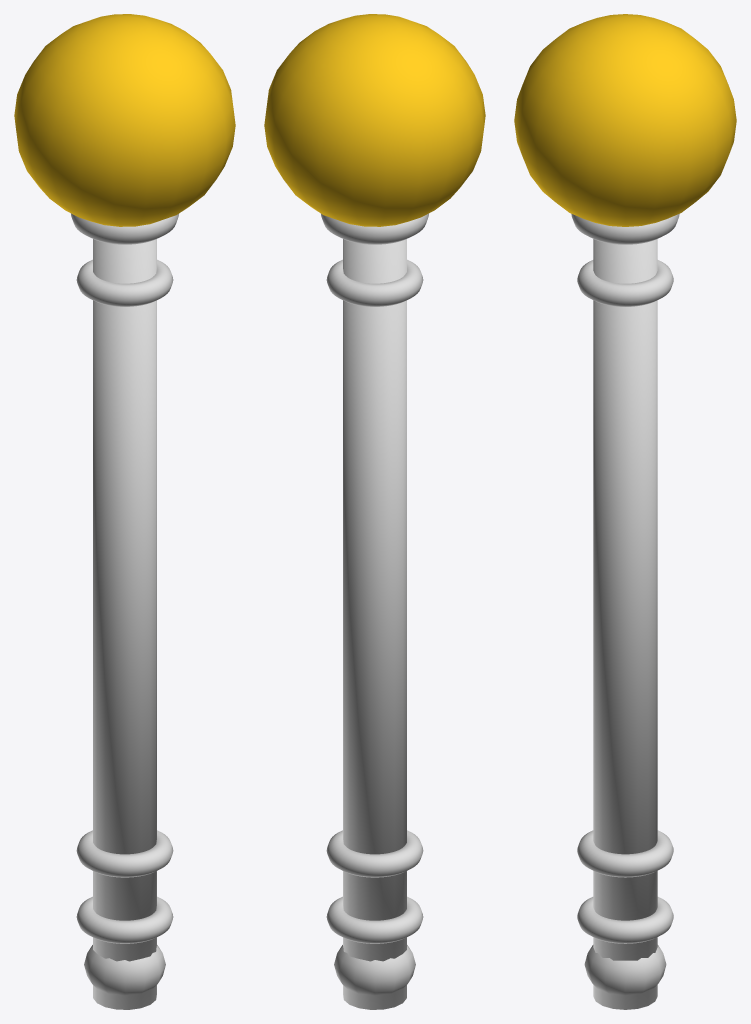
The model's file is dui_chuong_v2.glb.
3 renders of one model, left to right at view 1: azimuth 30°, elevation 25°; view 2: azimuth 150°, elevation 25°; view 3: azimuth 270°, elevation 25°, orthographic.
Parts seen in each view (by area): view 1: DuiChuongV2; view 2: DuiChuongV2; view 3: DuiChuongV2.
Boxes of the visible parts, bbox=[...] form: DuiChuongV2: bbox=[14, 14, 235, 1009]; DuiChuongV2: bbox=[264, 14, 485, 1009]; DuiChuongV2: bbox=[514, 14, 736, 1009].
Size of the model in its own units: 0.076 by 0.3661 by 0.076.
